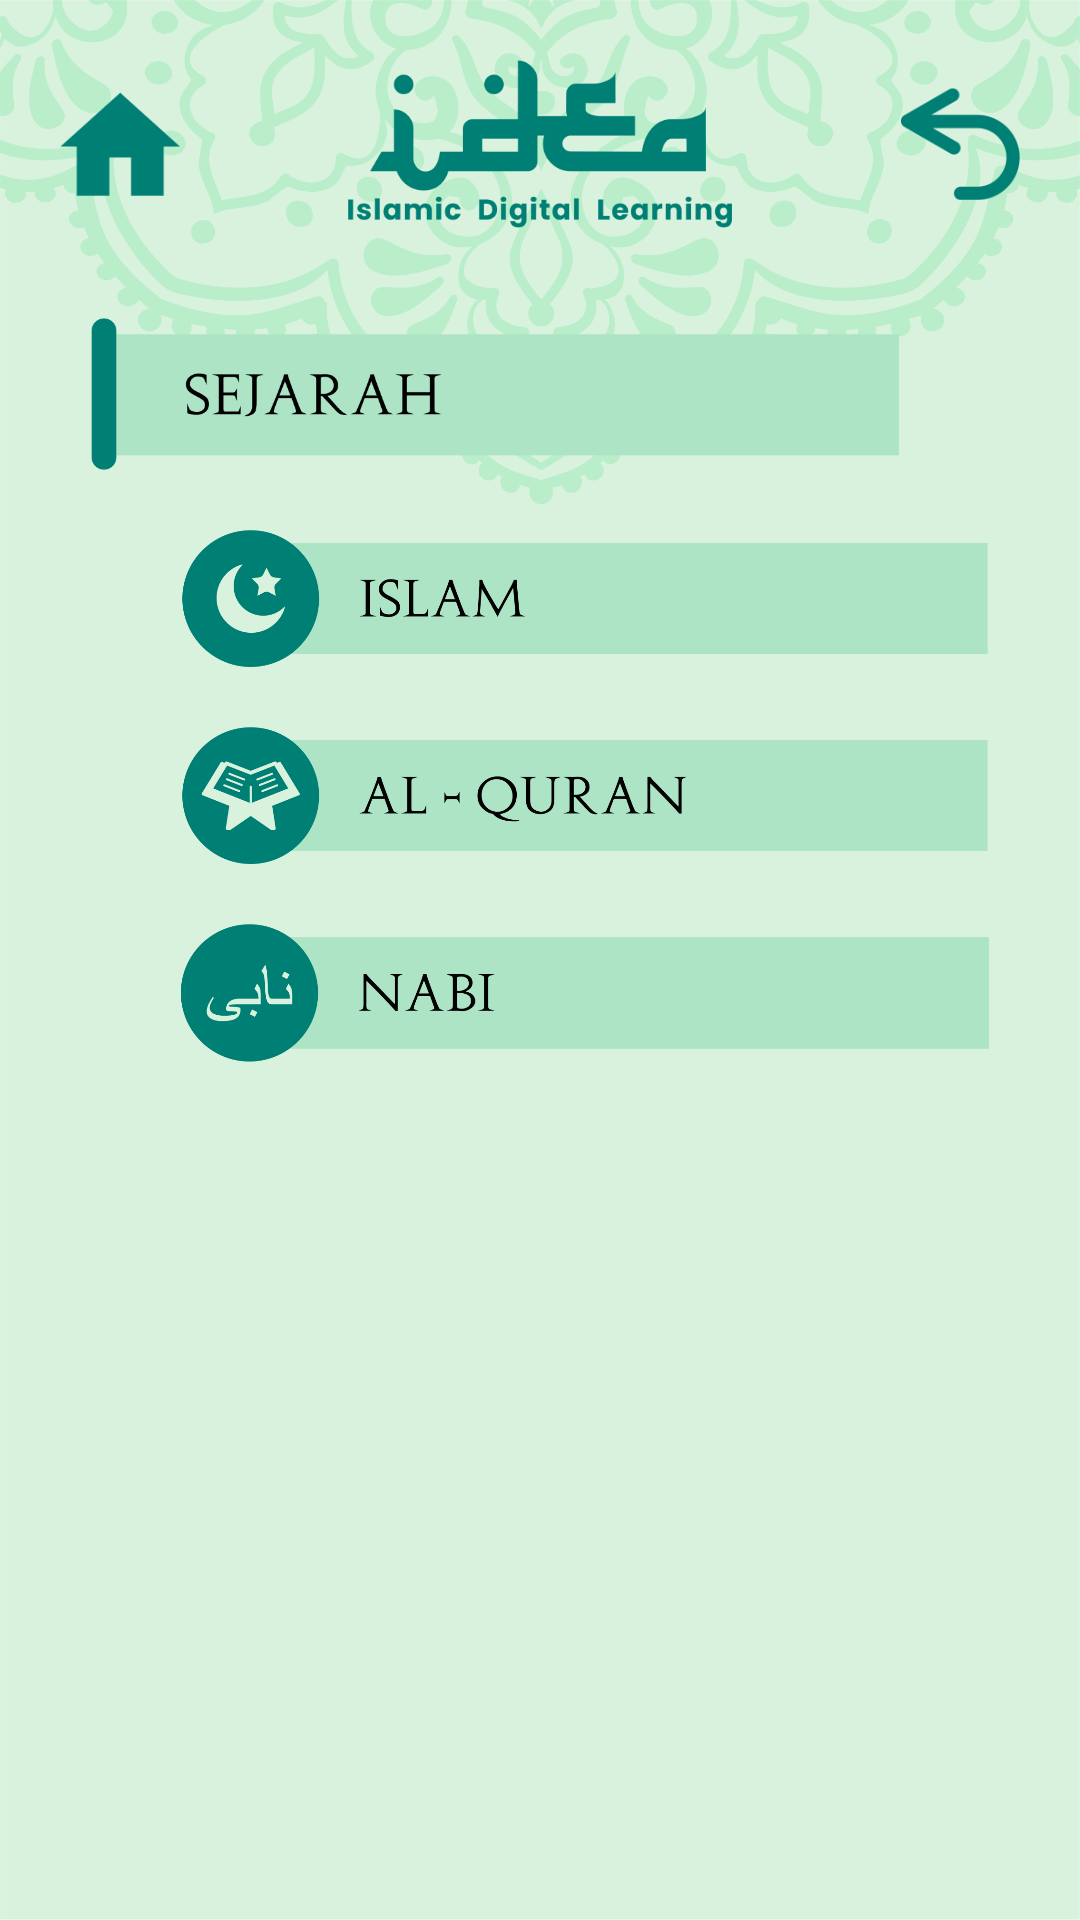

Icons on this 1080px x 1920px Android screen, each with its box as (x1, y1, x2, y2):
back: (900, 84, 1020, 204)
home: (60, 84, 180, 204)
